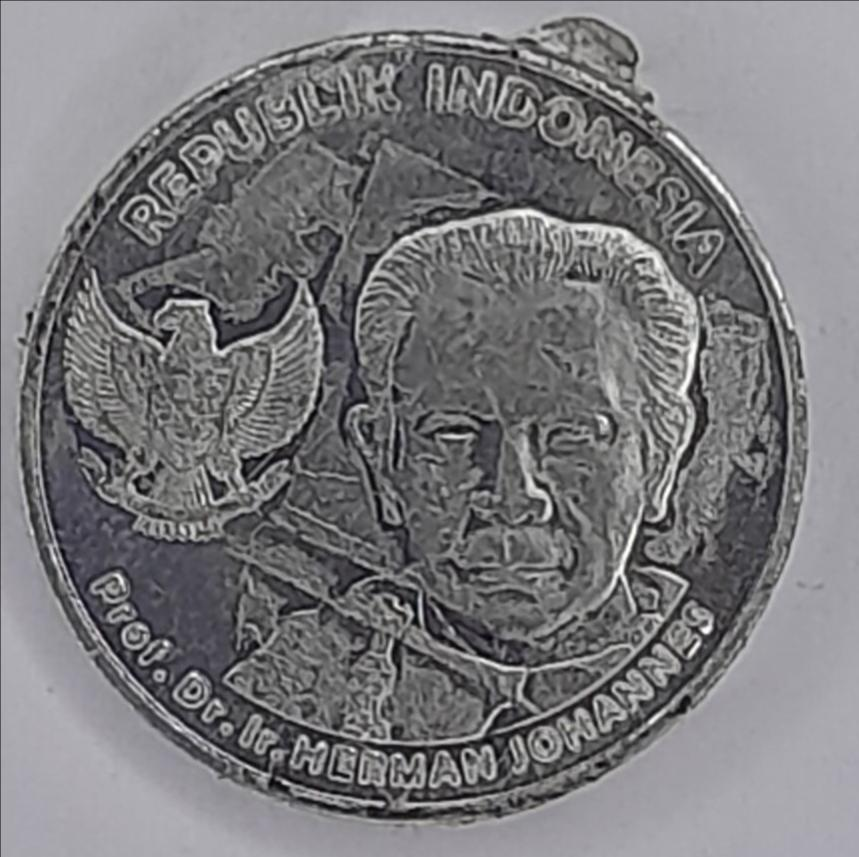coin_100_e2016: (12, 11, 815, 829)
